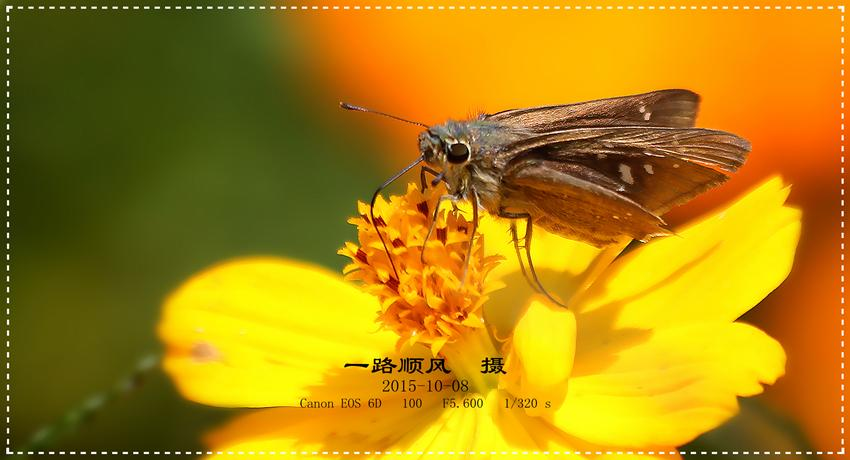Hesperiidae: (333, 80, 757, 290)
